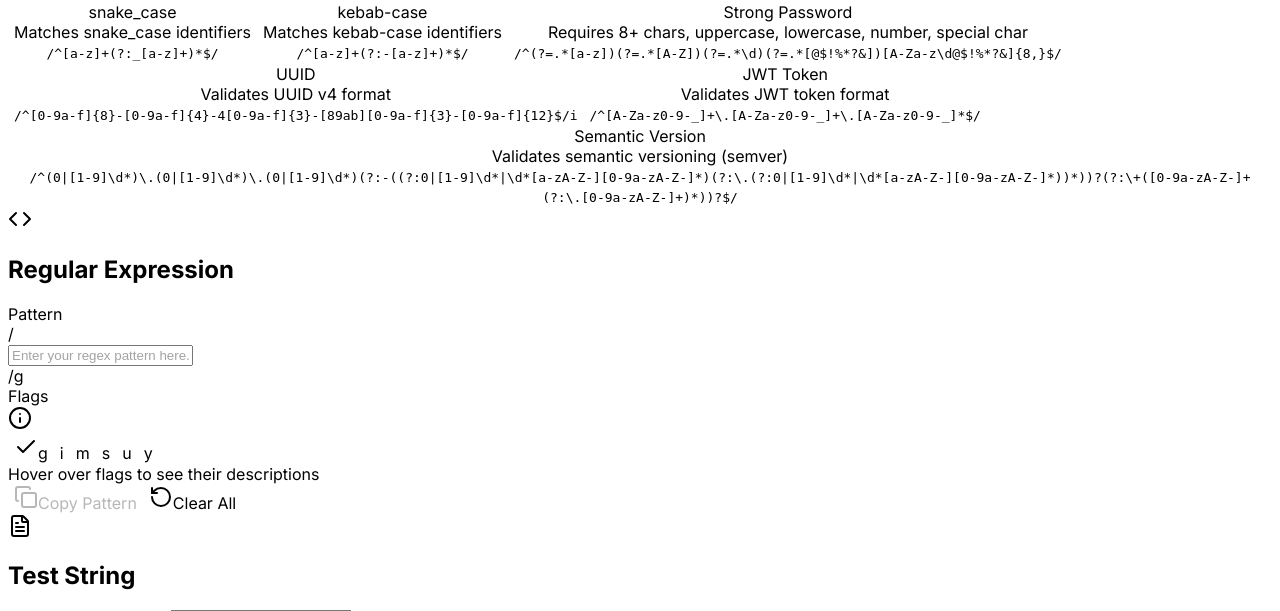
Scenario: RegexTesterPage › Pattern Input › shows error for invalid regex pattern
(page scrolled)
# Use paste to avoid special character issues with userEvent.type
Click the field with placeholder "Enter your regex pattern here..." at [100, 355], box x1=8 y1=344 x2=193 y2=366
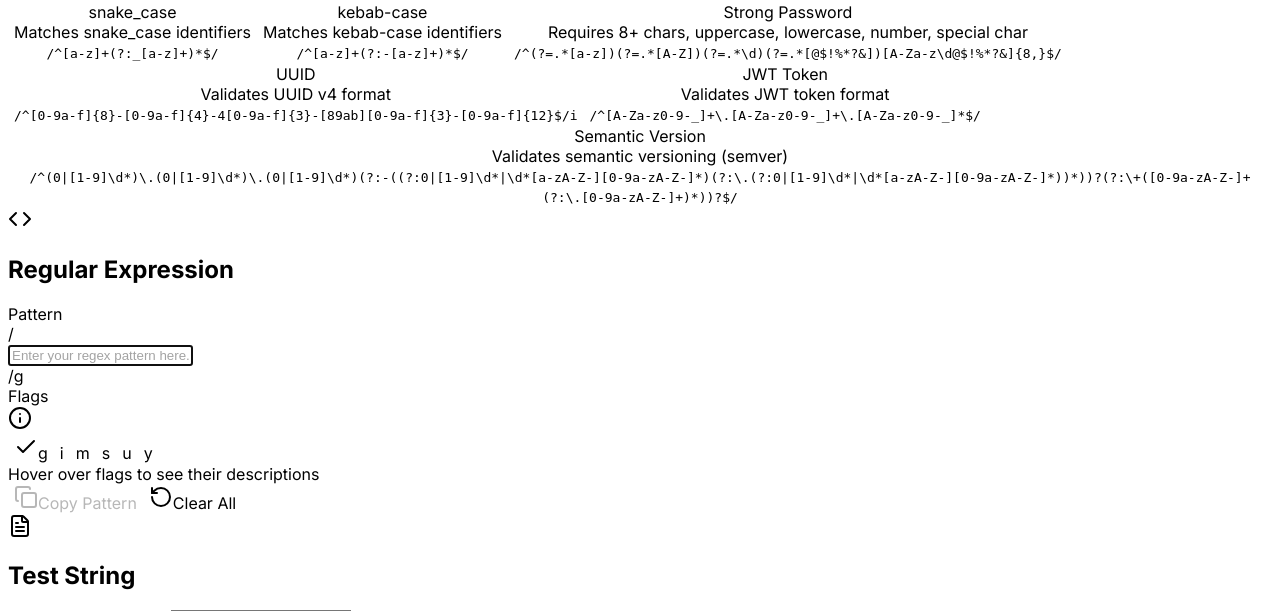
Type keys "[invalid"
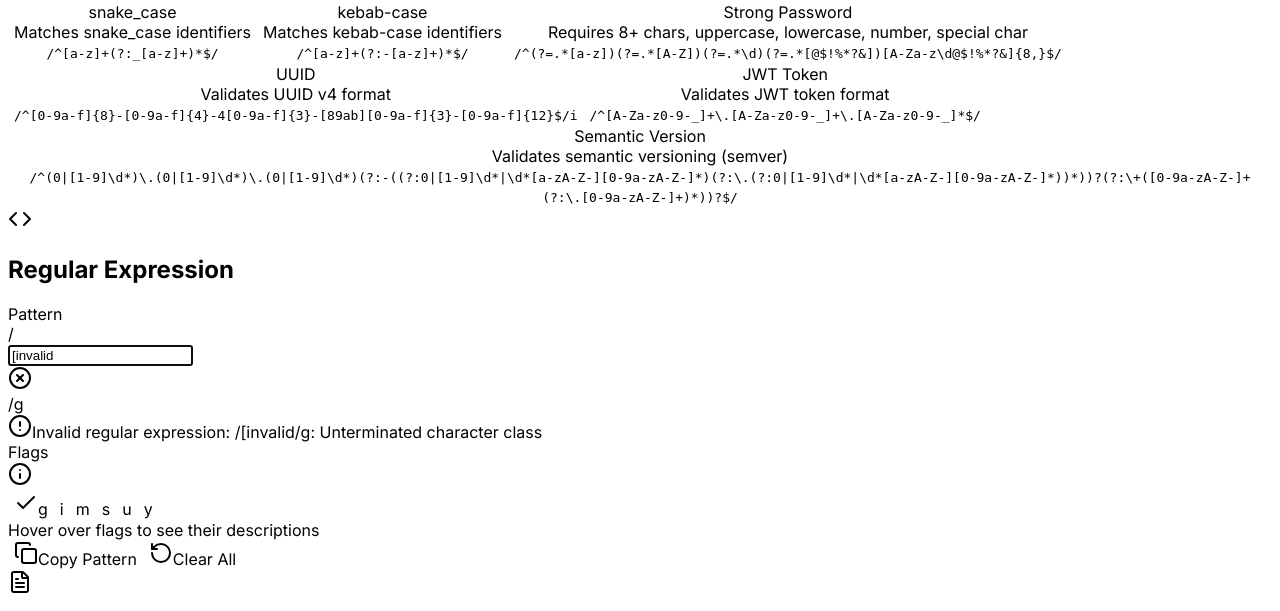
Result: the text "Invalid" is shown at x1=32 y1=422 x2=542 y2=442
